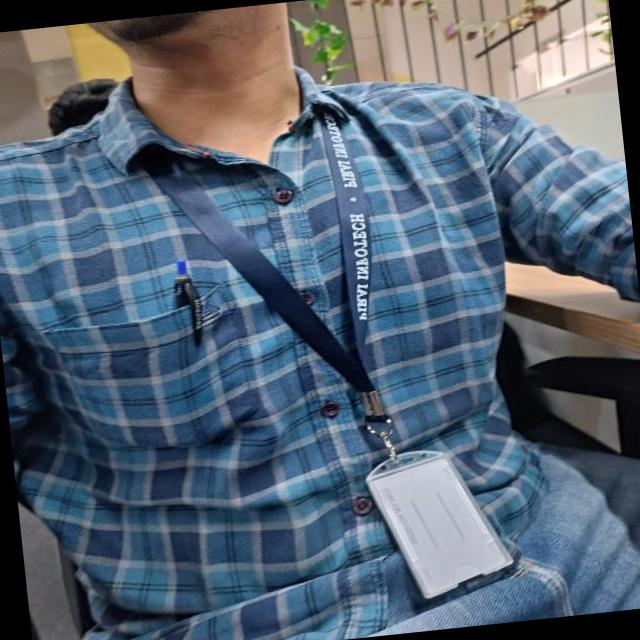id_card: (138, 104, 516, 620)
